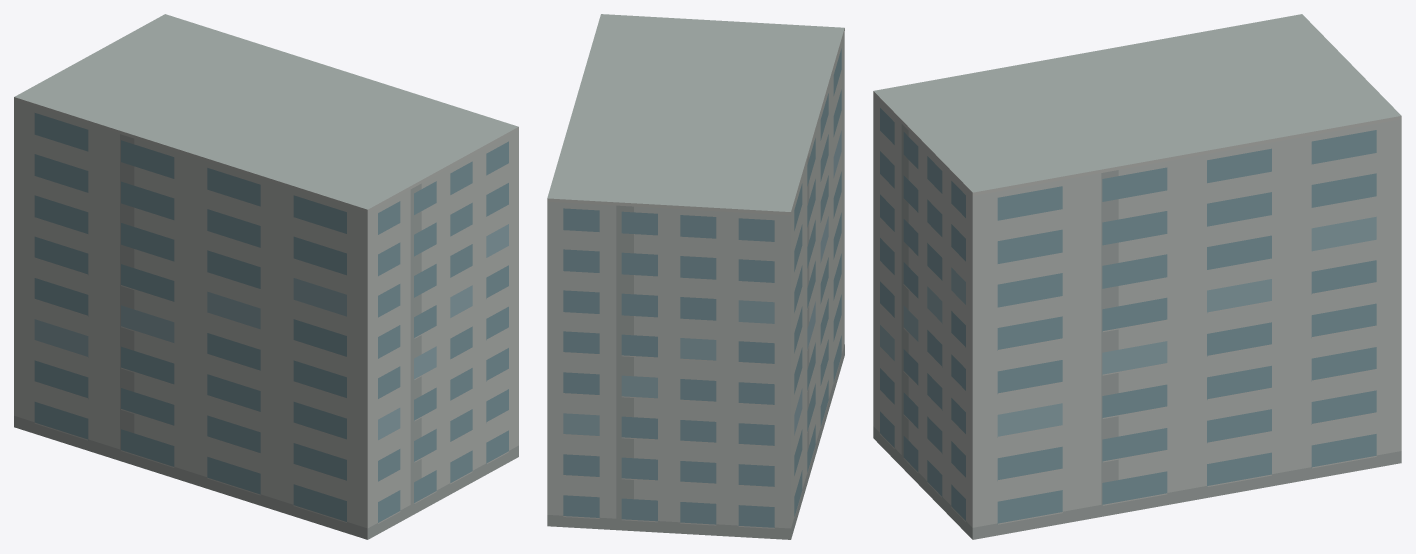
File: survey-upis-32848314.glb
3 renders of one model, left to right at view 1: azimuth 30°, elevation 25°; view 2: azimuth 150°, elevation 25°; view 3: azimuth 270°, elevation 25°, orthographic. The views are drawn at different scales.
Parts seen in each view (by area): view 1: survey-upis-32848314.tmp; view 2: survey-upis-32848314.tmp; view 3: survey-upis-32848314.tmp.
Part boxes in pixels (bbox=[...]): survey-upis-32848314.tmp: bbox=[14, 14, 518, 539]; survey-upis-32848314.tmp: bbox=[547, 14, 844, 539]; survey-upis-32848314.tmp: bbox=[873, 14, 1401, 539].
Bounding box in the file's own units: 26.81 × 24.3 × 33.51.
